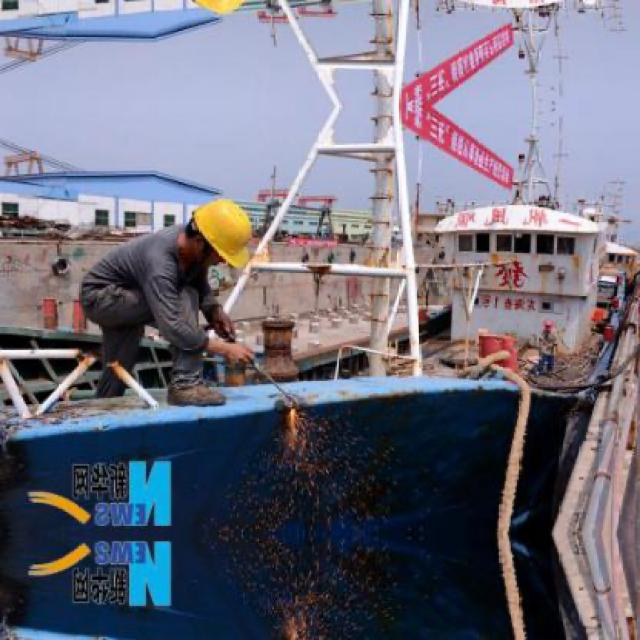helmet: (180, 193, 269, 271), (178, 0, 270, 22)
